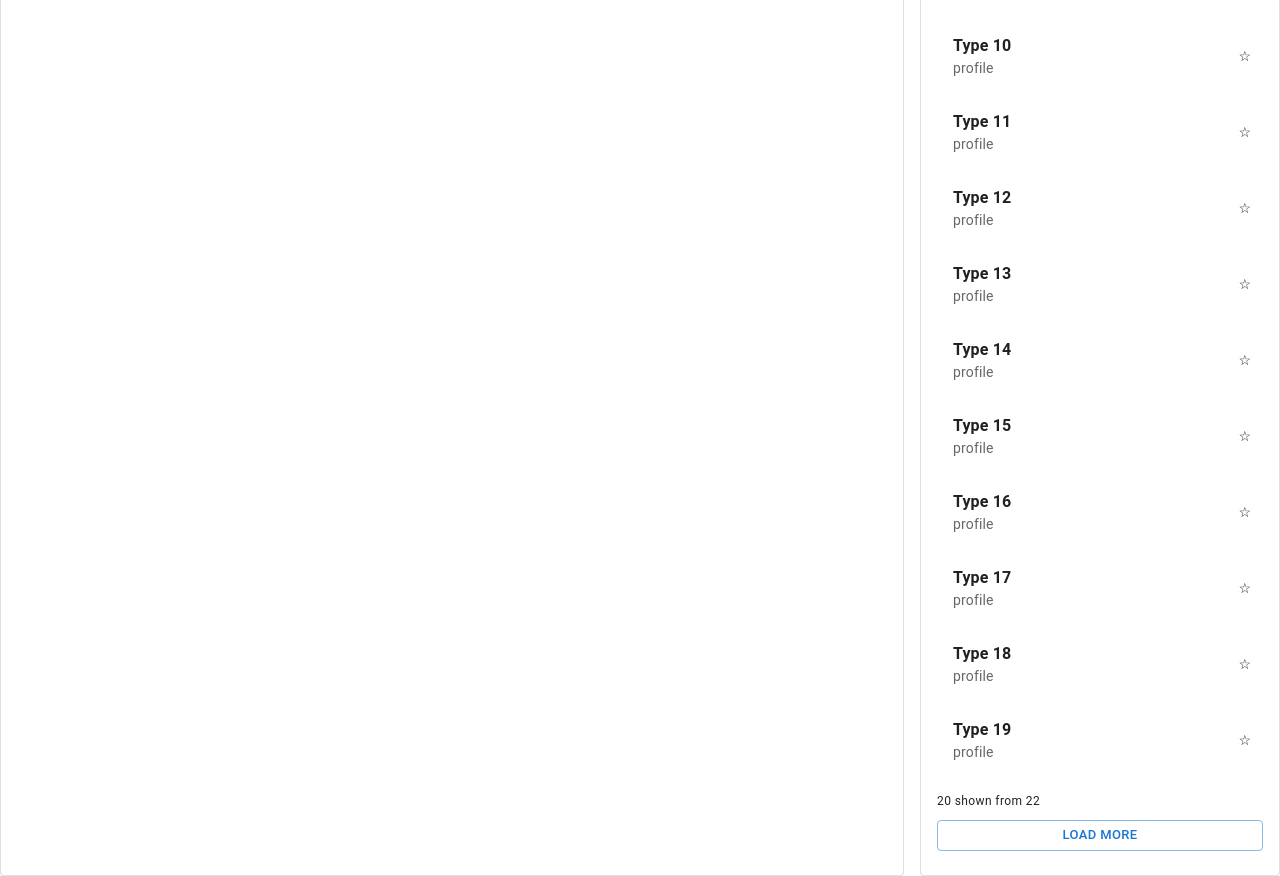
Test: SchemaWorkbenchRenderer › loads long schema browser lists incrementally
(page scrolled)
Expected: the text "20 shown from 22" is shown, [937, 794, 1040, 808]
Expected: the button "Type 21 profile" is not shown
Click the button "Load more": (1100, 836) [937, 820, 1263, 851]
(page scrolled)
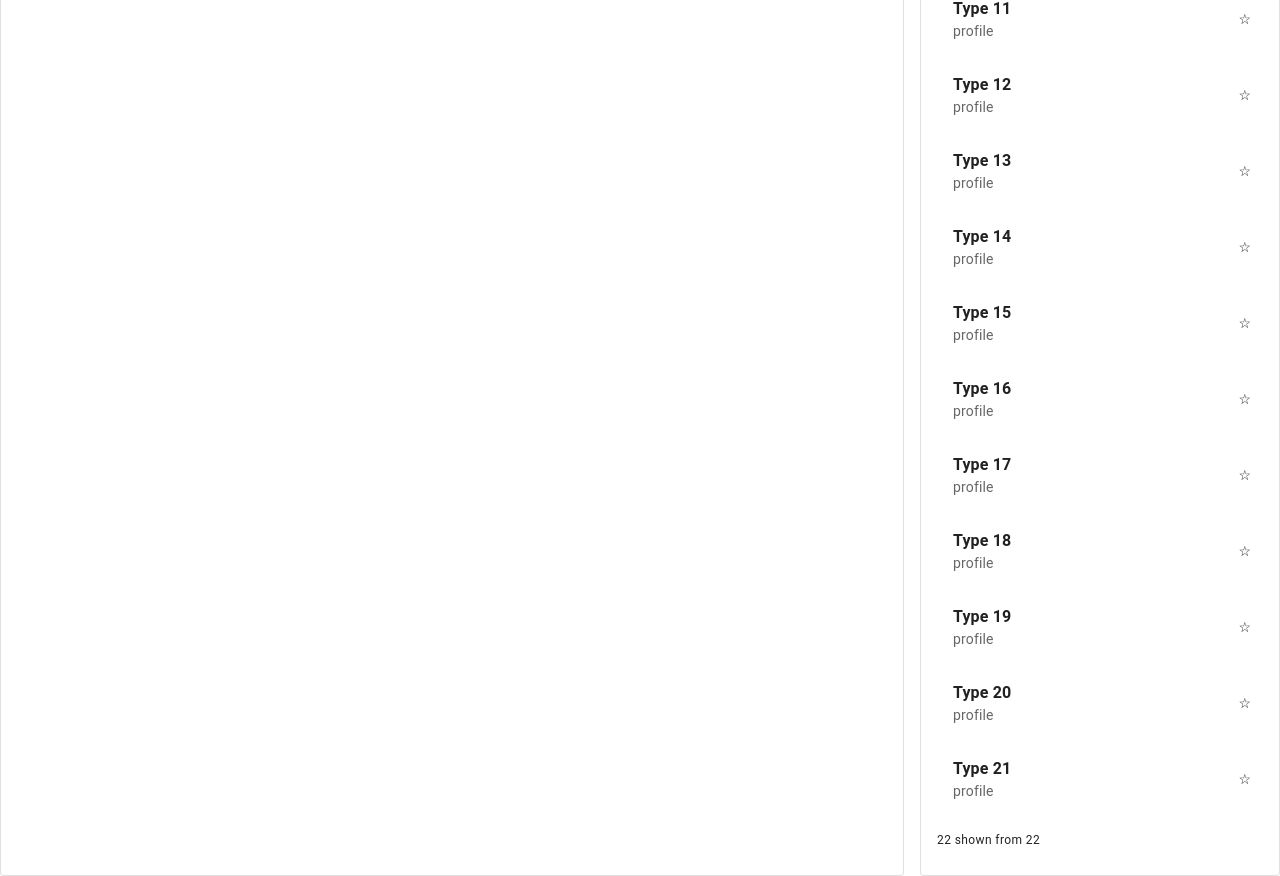
Expected: the text "22 shown from 22" is shown, [937, 833, 1040, 847]
Expected: the button "Type 21 profile" is shown, [953, 759, 1011, 799]
